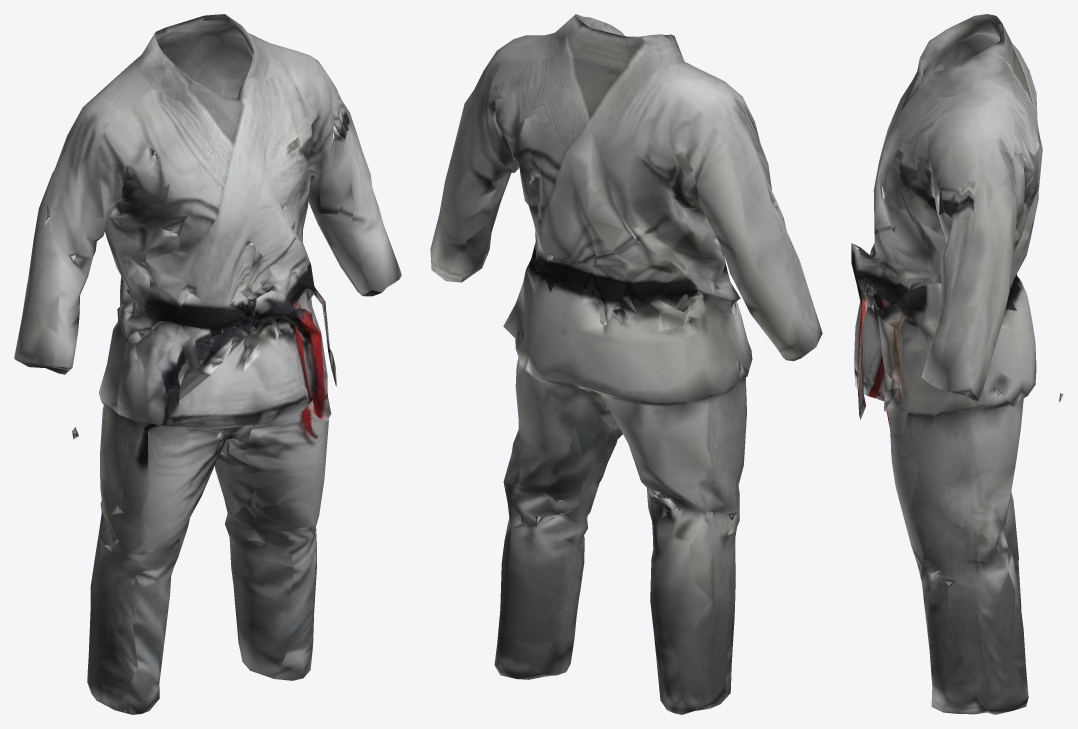
File: gi_mannequin.glb
The picture shows the model from 3 angles, left to right: view 1: azimuth 30°, elevation 25°; view 2: azimuth 150°, elevation 25°; view 3: azimuth 270°, elevation 25°; orthographic projection. The views are drawn at different scales.
Parts seen in each view (by area): view 1: Mesh_0; view 2: Mesh_0; view 3: Mesh_0.
Boxes of the visible parts, box(x1,y1,x2,y2) form: Mesh_0: box(14, 14, 401, 714); Mesh_0: box(430, 14, 822, 714); Mesh_0: box(851, 14, 1063, 714).
Size of the model in its own units: 0.9659 by 1.6 by 0.4803.
1 material, 1 textured.
